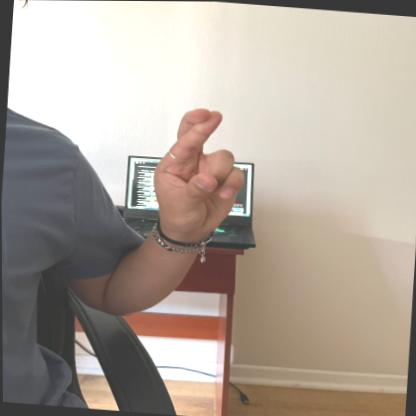R: (147, 99, 246, 245)
